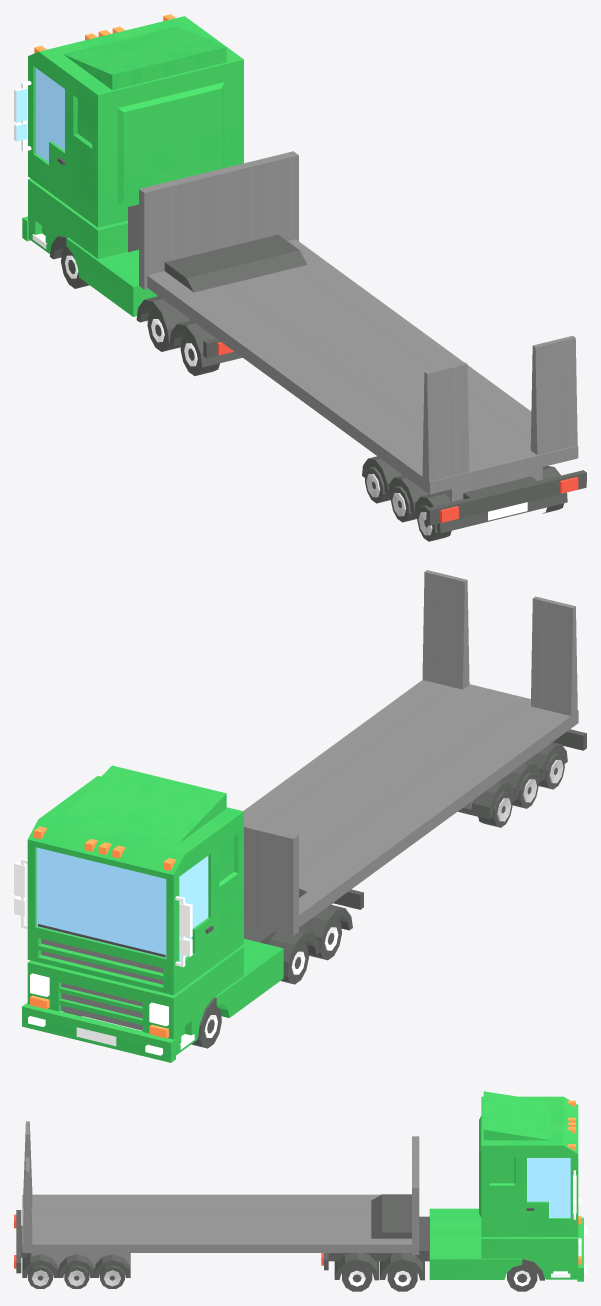
Rendered from transport_truck.009.glb.
3 renders of one model, top to bottom at view 1: azimuth 30°, elevation 25°; view 2: azimuth 150°, elevation 25°; view 3: azimuth 270°, elevation 25°, orthographic. The views are drawn at different scales.
Parts seen in each view (by area): view 1: transport_truck.009(Clone); view 2: transport_truck.009(Clone); view 3: transport_truck.009(Clone).
Part boxes in pixels (box(x1,y1,x2,y2)): transport_truck.009(Clone): box(14, 14, 586, 541); transport_truck.009(Clone): box(14, 570, 586, 1062); transport_truck.009(Clone): box(14, 1091, 586, 1291).
Bounding box in the file's own units: 2.09 × 2.59 × 8.52.
1 material, 1 textured.
